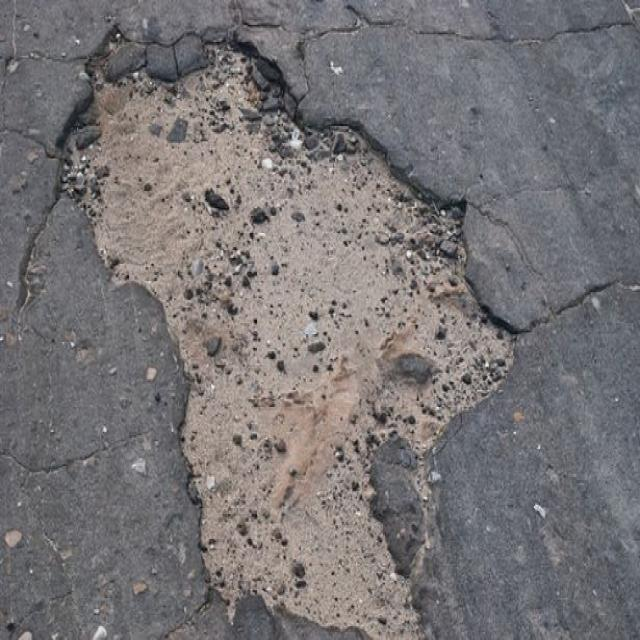pothole: (47, 19, 524, 638)
